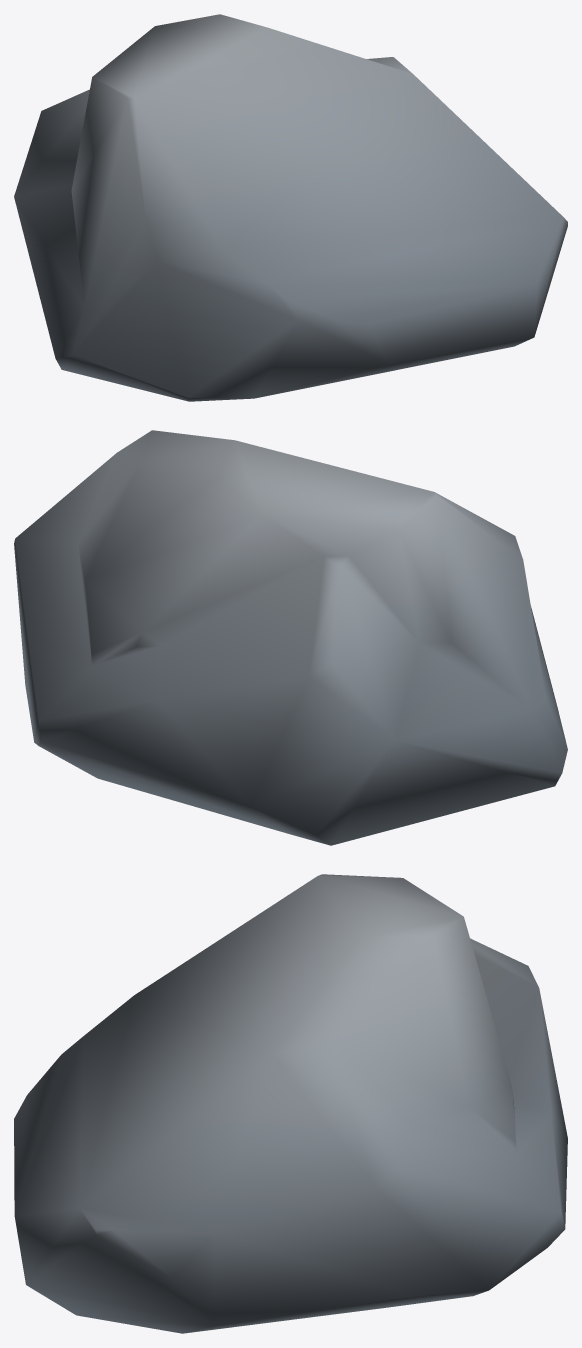
The model's file is Stone_3.FBX.
3 renders of one model, top to bottom at view 1: azimuth 30°, elevation 25°; view 2: azimuth 150°, elevation 25°; view 3: azimuth 270°, elevation 25°, orthographic. The views are drawn at different scales.
Parts seen in each view (by area): view 1: Stone_3; view 2: Stone_3; view 3: Stone_3.
Part boxes in pixels (x1,y1,x2,y2): Stone_3: [14, 14, 567, 401]; Stone_3: [14, 430, 567, 845]; Stone_3: [14, 874, 567, 1333].
Bounding box in the file's own units: 98.94 × 57.88 × 92.39.
Materials: 1 (1 with a texture image).
